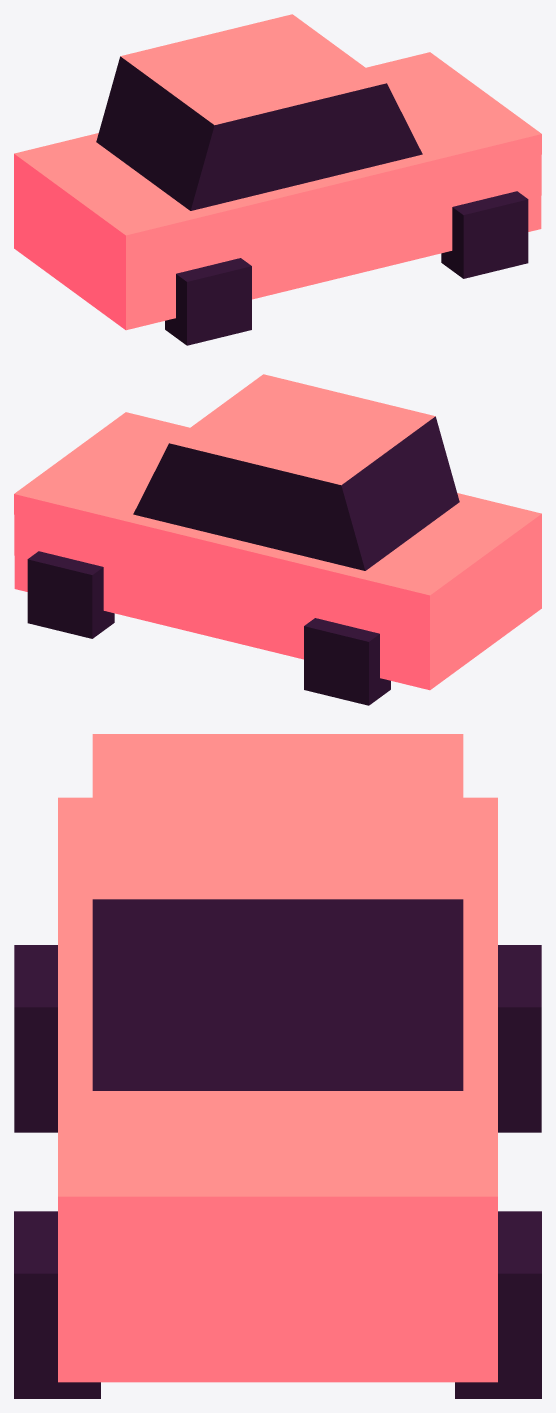
Rendered from Car_NoSpion_NoPlat.fbx.
3 views of the same model, one above another, from view 1: azimuth 30°, elevation 25°; view 2: azimuth 150°, elevation 25°; view 3: azimuth 270°, elevation 25° (orthographic). The views are drawn at different scales.
Parts seen in each view (by area): view 1: Car_NoSpion_NoPlat; view 2: Car_NoSpion_NoPlat; view 3: Car_NoSpion_NoPlat.
Part boxes in pixels (x1=…): Car_NoSpion_NoPlat: x1=14, y1=14, x2=541, y2=345; Car_NoSpion_NoPlat: x1=14, y1=374, x2=541, y2=705; Car_NoSpion_NoPlat: x1=14, y1=734, x2=541, y2=1398.
Bounding box in the file's own units: 240 × 430 × 192.
